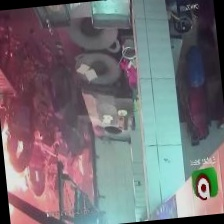fire: (3, 147, 51, 224)
